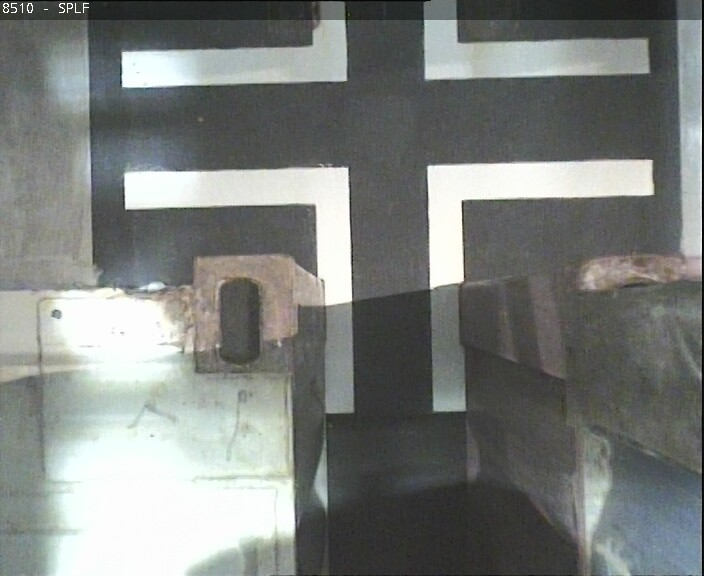groundmarker_1: (124, 157, 653, 412), (122, 1, 638, 90)
